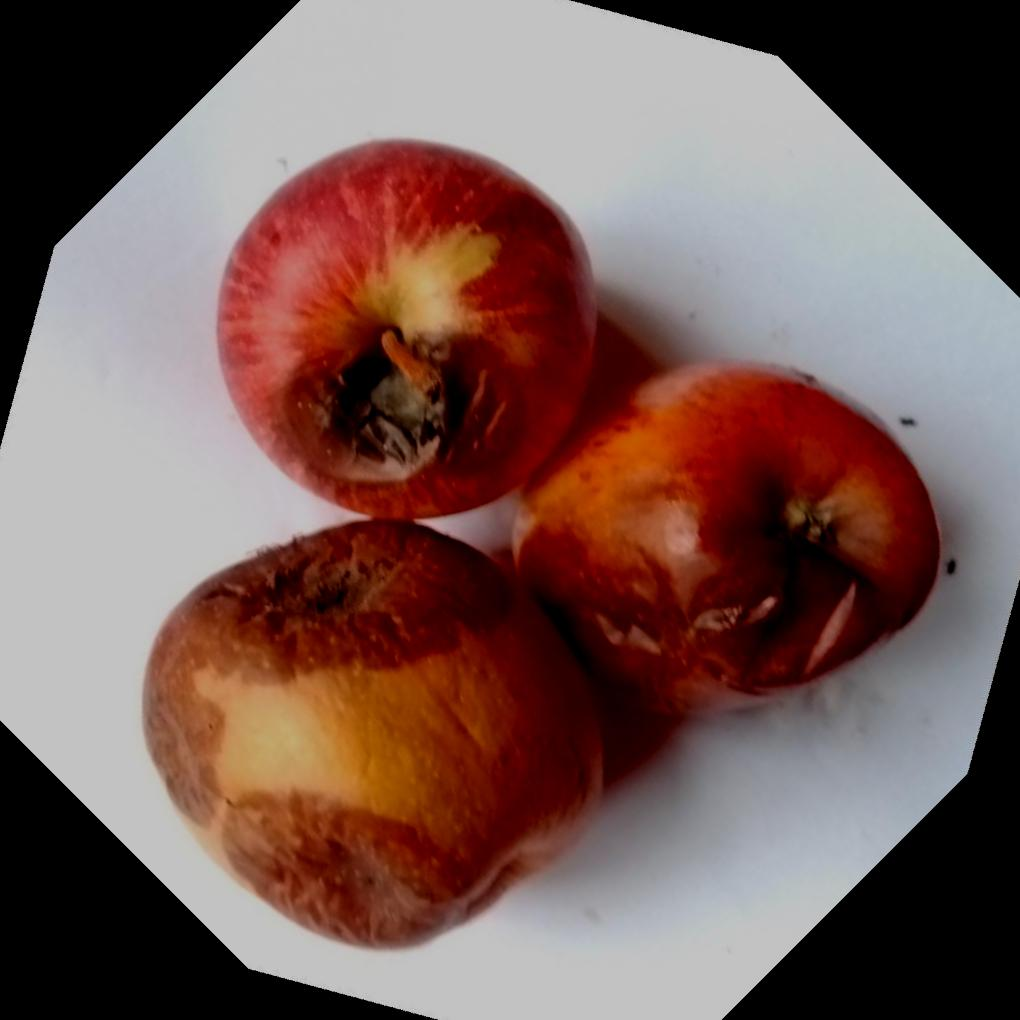FreshOrange: (138, 136, 939, 951)
